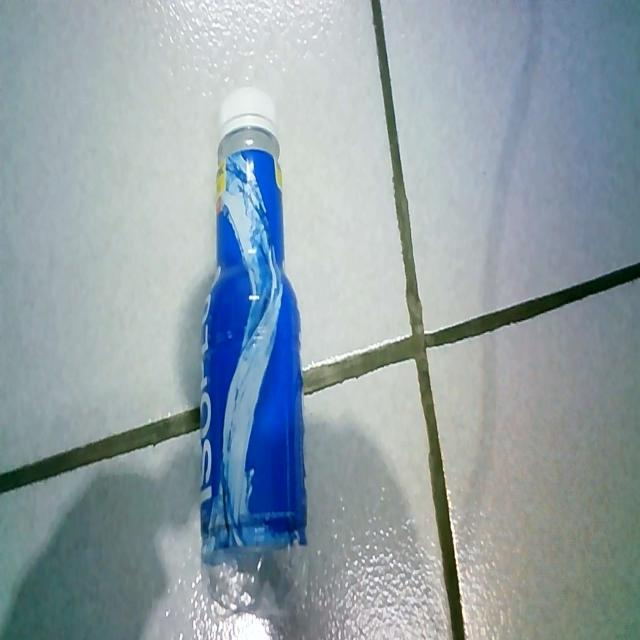botol: (180, 86, 332, 622)
